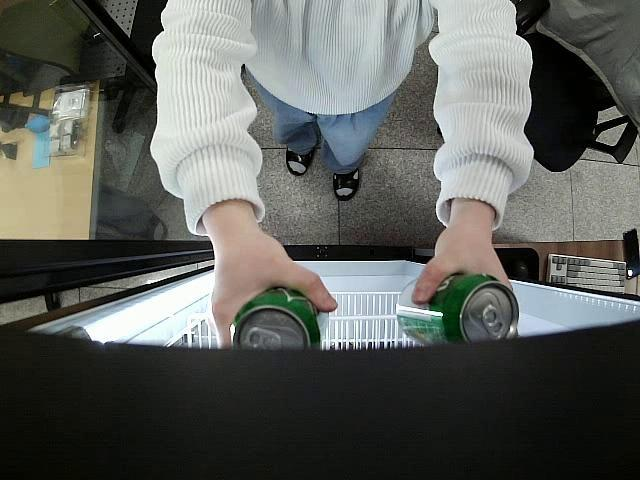12_chilsungCider: (394, 272, 518, 345), (232, 288, 328, 354)
